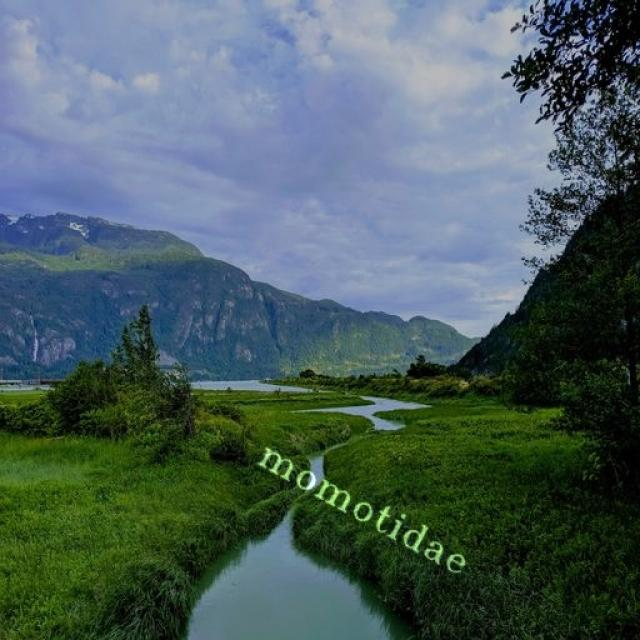watermark: (246, 434, 487, 582)
